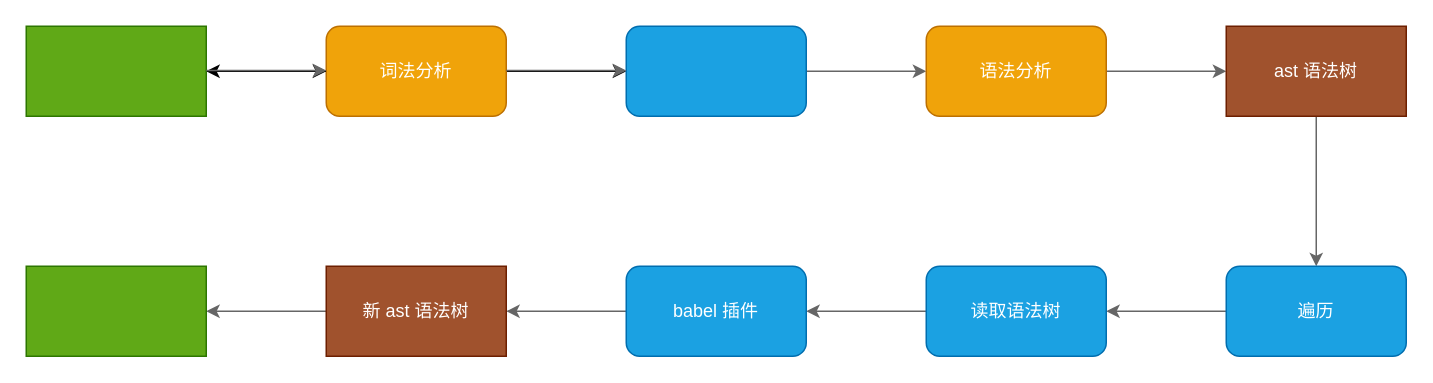
The diagram is 1433 pixels wide and 383 high, and some of its shapes have lost their labels. Here are the shapes that lost their labels. From the top down, the box of each, then its label:
(25, 25, 206, 116): 源代码 es6/ ts/ jsx
(625, 25, 806, 116): tokens
(25, 265, 206, 356): 目标代码 源代码
